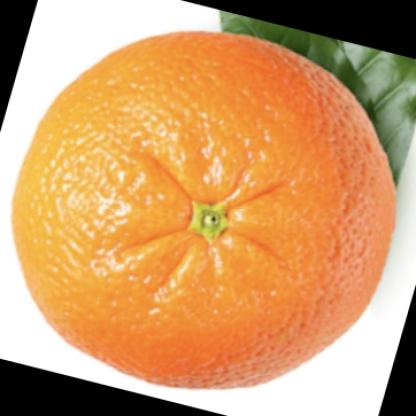fresh: (13, 30, 397, 390)
